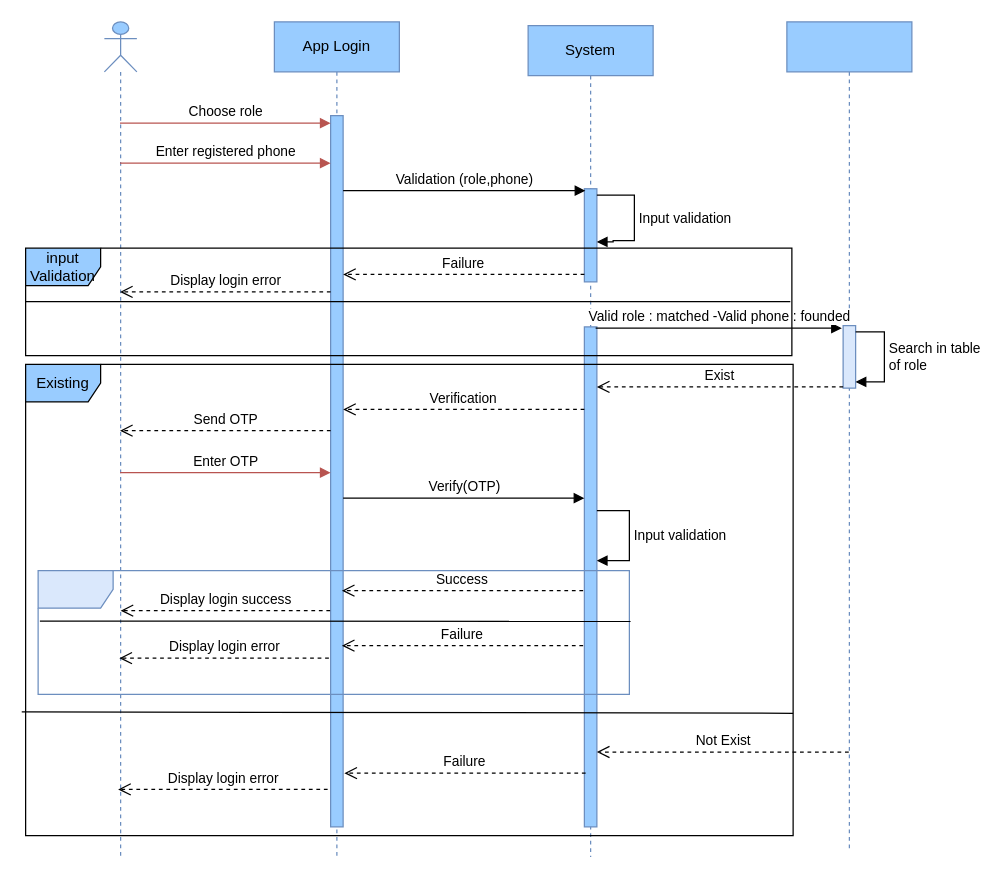
This 1006x879 diagram has some shape labels left out. The shapes that lost their labels are listed below. From the top down, each one's box as (x1, y1, x2, y2) in pixels, then its label:
(786, 21, 912, 851): Database
(37, 569, 629, 694): OTP validation
